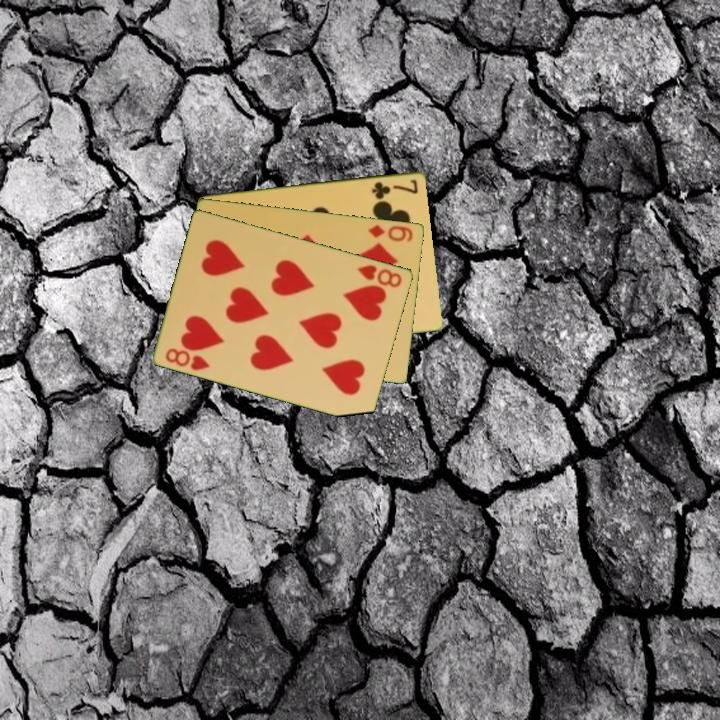6d: (365, 221, 416, 244)
7c: (368, 176, 421, 201)
8h: (354, 261, 405, 290), (162, 344, 213, 373)
